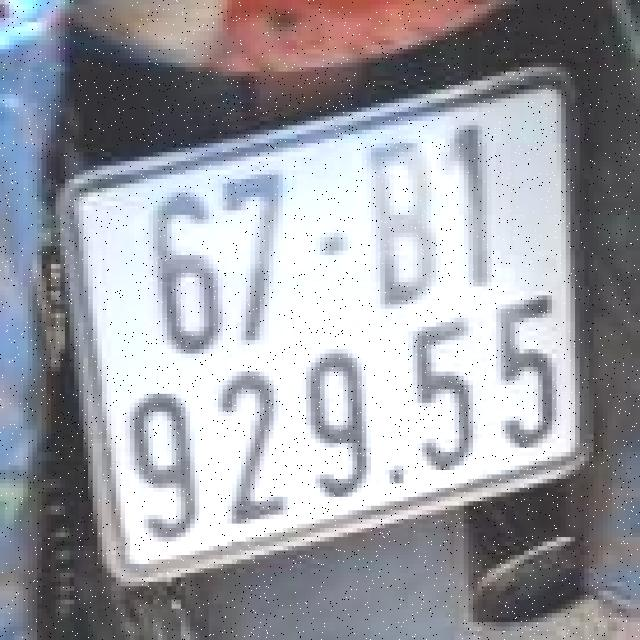1: (437, 117, 510, 298)
2: (205, 363, 303, 537)
5: (405, 309, 487, 482), (492, 284, 564, 461)
6: (138, 184, 237, 368)
7: (216, 166, 319, 353)
9: (116, 385, 211, 557), (294, 338, 380, 508)
B: (358, 130, 457, 323)
